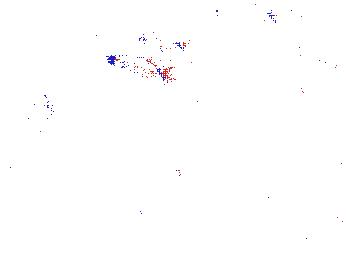X-ray fish: (17, 84, 60, 130), (304, 1, 345, 37)
glassfish: (154, 134, 188, 199), (115, 196, 173, 229)
redtail glassfish: (107, 53, 171, 84), (212, 3, 281, 27), (138, 31, 189, 54)
